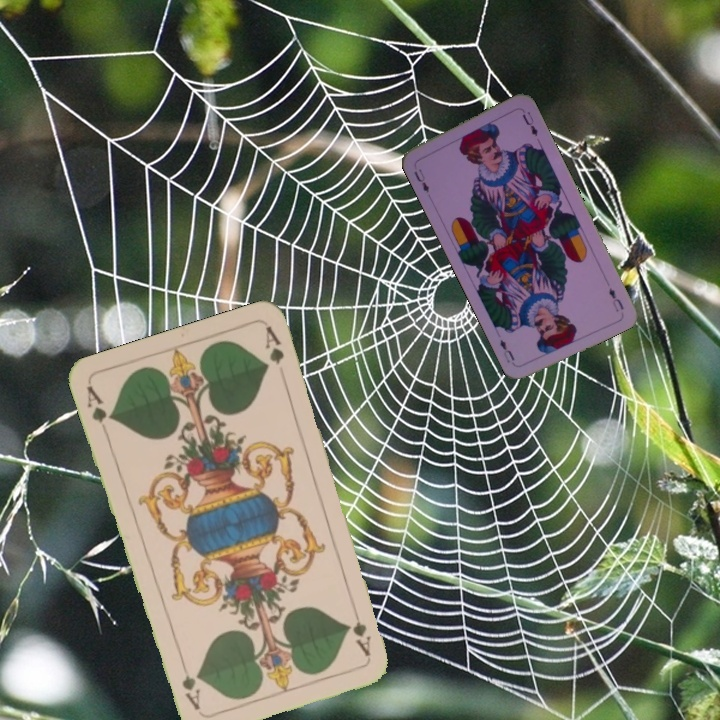EU: (410, 165, 432, 196), (605, 283, 627, 314)
GA: (348, 600, 374, 659), (82, 381, 115, 425)
